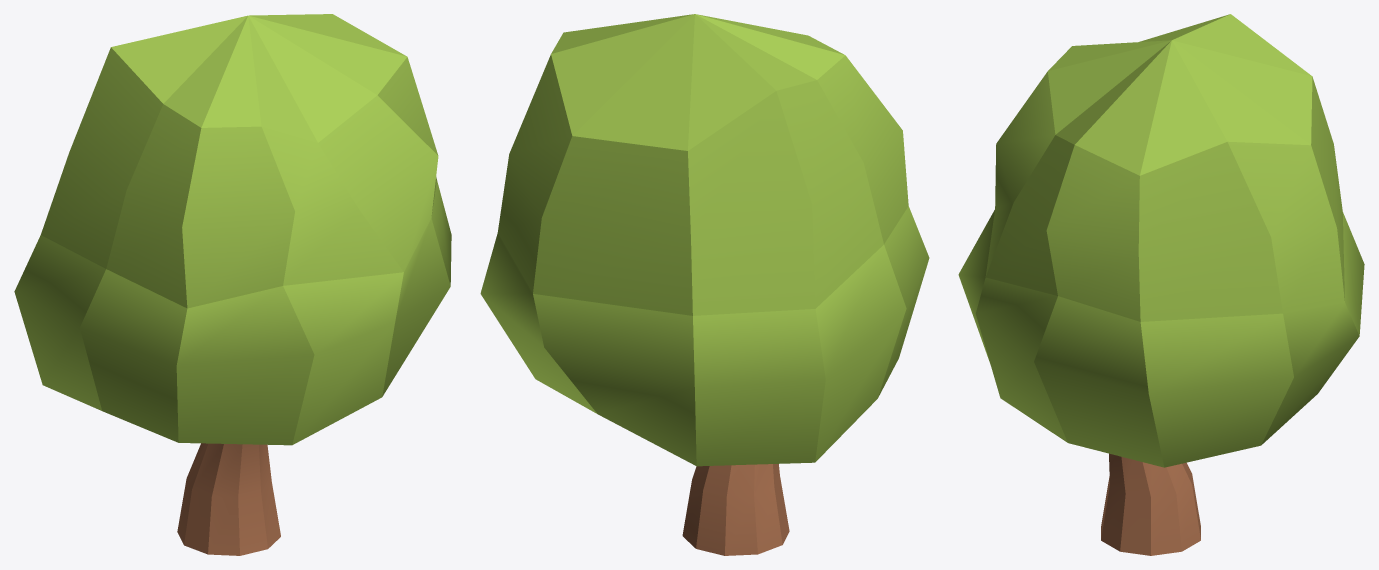
File: tree92.fbx
The picture shows the model from 3 angles, left to right: view 1: azimuth 30°, elevation 25°; view 2: azimuth 150°, elevation 25°; view 3: azimuth 270°, elevation 25°; orthographic projection. The views are drawn at different scales.
Parts seen in each view (by area): view 1: group2, pCylinder2; view 2: group2, pCylinder2; view 3: group2, pCylinder2.
Part boxes in pixels (x1,y1,x2,y2): group2: [14, 14, 451, 445]; pCylinder2: [177, 443, 280, 555]; group2: [480, 14, 929, 466]; pCylinder2: [682, 464, 789, 555]; group2: [958, 14, 1364, 467]; pCylinder2: [1101, 453, 1200, 555].
Size of the model in its own units: 240 by 305 by 221.
